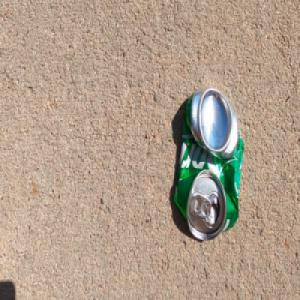SodaCan: (172, 86, 244, 243)
